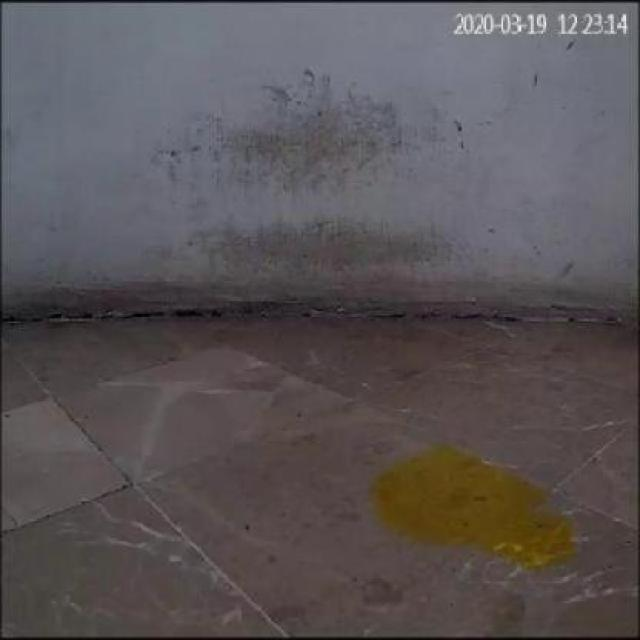spillage: (365, 443, 579, 573)
